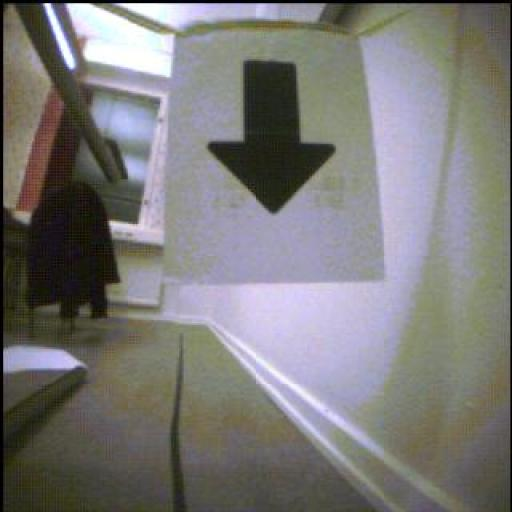Arrow: (209, 62, 335, 214)
